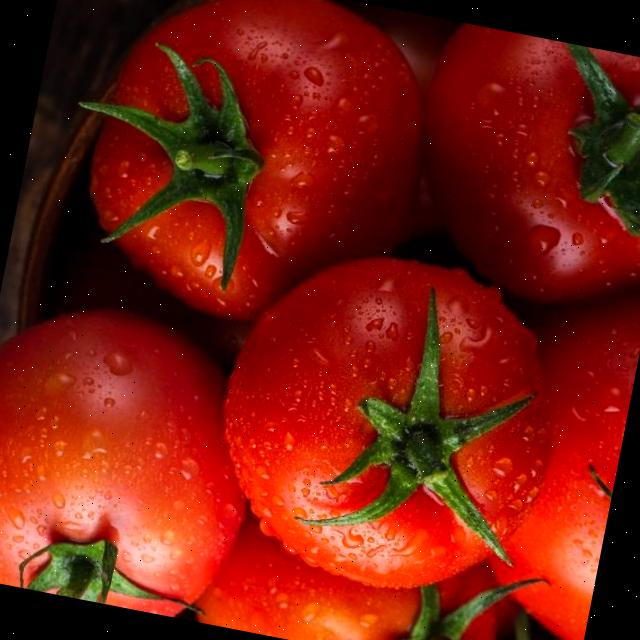tomato: (34, 0, 443, 352), (189, 240, 574, 608), (0, 284, 270, 625), (360, 11, 640, 314), (433, 254, 640, 640), (168, 453, 571, 640)
